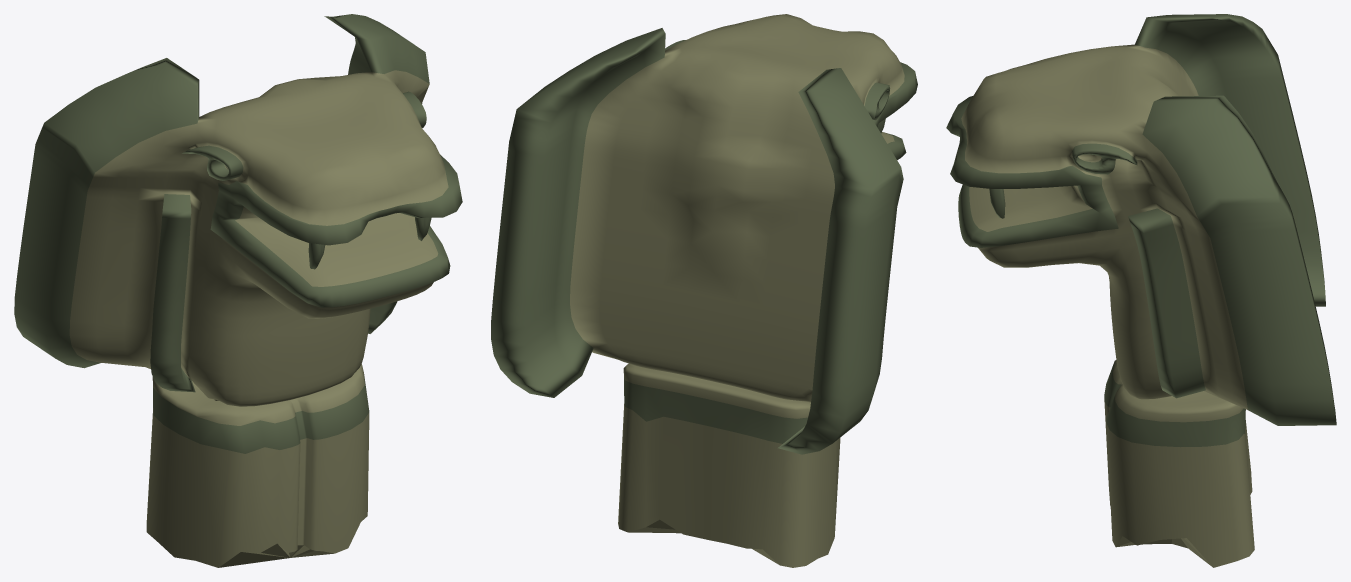
File: brocken_statue_snake.fbx
3 views of the same model, side by side, from view 1: azimuth 30°, elevation 25°; view 2: azimuth 150°, elevation 25°; view 3: azimuth 270°, elevation 25° (orthographic). The views are drawn at different scales.
Parts seen in each view (by area): view 1: statue_snake_broken; view 2: statue_snake_broken; view 3: statue_snake_broken.
Part boxes in pixels (left/top/right/bottom): statue_snake_broken: left=14, top=14, right=462, bottom=567; statue_snake_broken: left=491, top=14, right=917, bottom=567; statue_snake_broken: left=946, top=14, right=1336, bottom=567.
Bounding box in the file's own units: 2.86 × 3.7 × 2.78.
